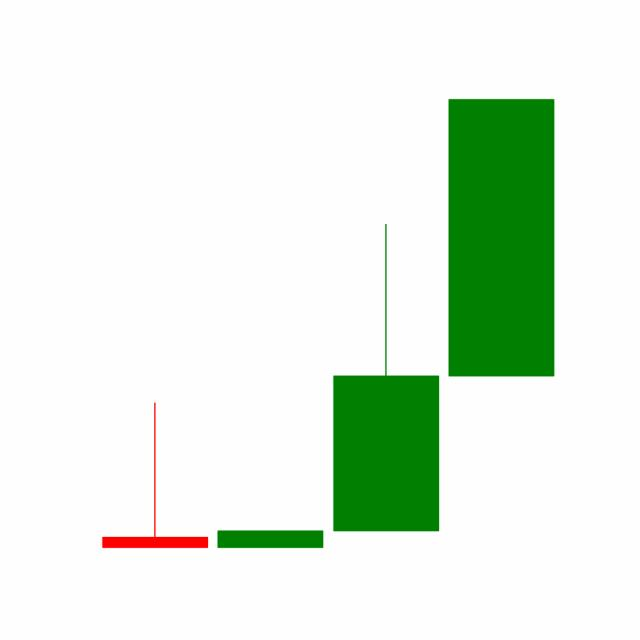Marubozu: (443, 96, 559, 379)
